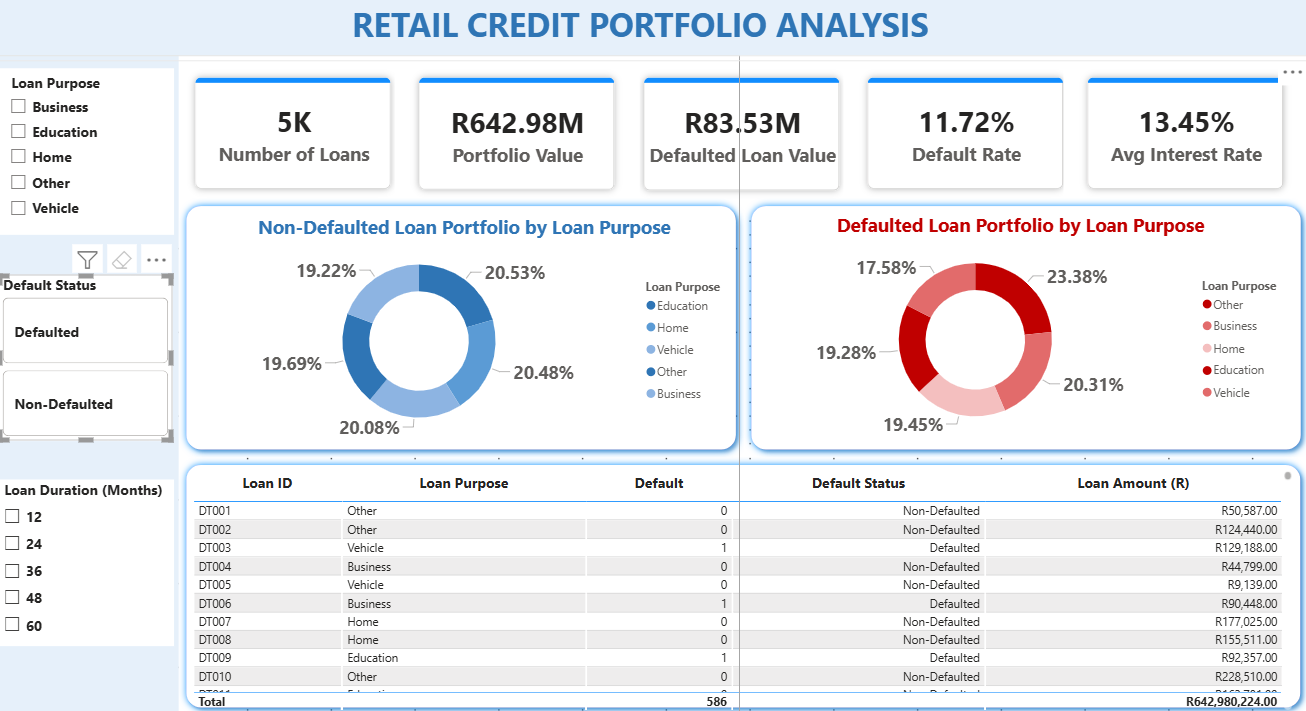

The dashboard page shown, as its layout file describes it:
{"tool":"powerbi","page":{"name":"Summary","canvas":[1500,820],"ordinal":0},"visuals":[{"type":"group","id":"g1","title":"Group 1","box":[199.8,64.9,1300.4,185.6],"z":0},{"type":"cardVisual","fields":{"Data":["Sum(Loan.LoanAmount)"]},"box":[712.7,65,279.9,185.5],"z":0,"group":"g1"},{"type":"cardVisual","fields":{"Data":["CountNonNull(Loan.LoanID)"]},"box":[199.8,65,279.8,183.3],"z":1000,"group":"g1"},{"type":"shape","box":[854.2,229.4,646,296.1],"z":1000},{"type":"cardVisual","fields":{"Data":["Sum(Loan.LoanAmount)"]},"box":[455.5,64.9,279.8,184.9],"z":2000,"group":"g1"},{"type":"shape","box":[208.3,229.4,646,296.1],"z":2000},{"type":"shape","box":[0,0.9,1500,65.5],"z":3000,"group":"g3"},{"type":"cardVisual","fields":{"Data":["Avg(Loan.Default)"]},"box":[968.1,65,279.9,183.9],"z":3000,"group":"g1"},{"type":"cardVisual","fields":{"Data":["Avg(Loan.InterestRate_Decimal)"]},"box":[1220.3,65,279.9,183.9],"z":4000,"group":"g1"},{"type":"donutChart","title":"Non-Defaulted Loan Portfolio by Loan Purpose","fields":{"Category":["Loan.LoanPurpose"],"Y":["CountNonNull(Loan.LoanID)"]},"box":[220.3,247.6,630.4,263.7],"z":4000,"group":"g2"},{"type":"textbox","box":[95,1,1281.2,72.5],"z":5000,"group":"g3"},{"type":"shape","box":[0,65.9,209,754.2],"z":6000,"group":"g2"},{"type":"donutChart","title":"Defaulted Loan Portfolio by Loan Purpose","fields":{"Category":["Loan.LoanPurpose"],"Y":["CountNonNull(Loan.LoanID)"]},"box":[855.5,246,630.4,263.7],"z":7000},{"type":"shape","box":[208.9,525,1291,295.2],"z":8000},{"type":"tableEx","fields":{"Values":["Loan.LoanID","Loan.LoanPurpose","Sum(Loan.Default)","Loan.Default Status","Sum(Loan.LoanAmount)"]},"box":[220,537.6,1265.9,282.7],"z":9000},{"type":"slicer","title":"Loan Purpose","fields":{"Values":["Loan.LoanPurpose"]},"box":[4.2,82.1,199.2,190.8],"z":10000,"group":"g2"},{"type":"advancedSlicerVisual","fields":{"Values":["Loan.Default Status"]},"box":[2.8,317.2,199,190],"z":11000,"group":"g2"},{"type":"listSlicer","fields":{"Values":["Loan.LoanTerm"]},"box":[4.2,551.5,199,190],"z":12000,"group":"g2"},{"type":"group","id":"g2","title":"Group 2","box":[0,65.9,850.7,754.2],"z":12001},{"type":"group","id":"g3","title":"Group 3","box":[0,0.9,1500,72.6],"z":12002}]}

Visuals, with their boxes in screenshot pixels (x1, y1, x2, y2), scaled from the page's 1500x820 canvas onto the 1306x711 screenshot:
"Group 1" group: [174,56,1305,217]
cardVisual - Sum(Loan.LoanAmount): [621,56,864,217]
cardVisual - CountNonNull(Loan.LoanID): [174,56,418,215]
shape: [744,199,1305,456]
cardVisual - Sum(Loan.LoanAmount): [397,56,640,217]
shape: [181,199,744,456]
shape: [0,1,1305,58]
cardVisual - Avg(Loan.Default): [843,56,1087,216]
cardVisual - Avg(Loan.InterestRate_Decimal): [1062,56,1305,216]
"Non-Defaulted Loan Portfolio by Loan Purpose" donutChart: [192,215,741,443]
textbox: [83,1,1198,64]
shape: [0,57,182,710]
"Defaulted Loan Portfolio by Loan Purpose" donutChart: [745,213,1294,442]
shape: [182,455,1305,710]
tableEx - Loan.LoanID x Loan.LoanPurpose: [192,466,1294,710]
"Loan Purpose" slicer: [4,71,177,237]
advancedSlicerVisual - Loan.Default Status: [2,275,176,440]
listSlicer - Loan.LoanTerm: [4,478,177,643]
"Group 2" group: [0,57,741,710]
"Group 3" group: [0,1,1305,64]
